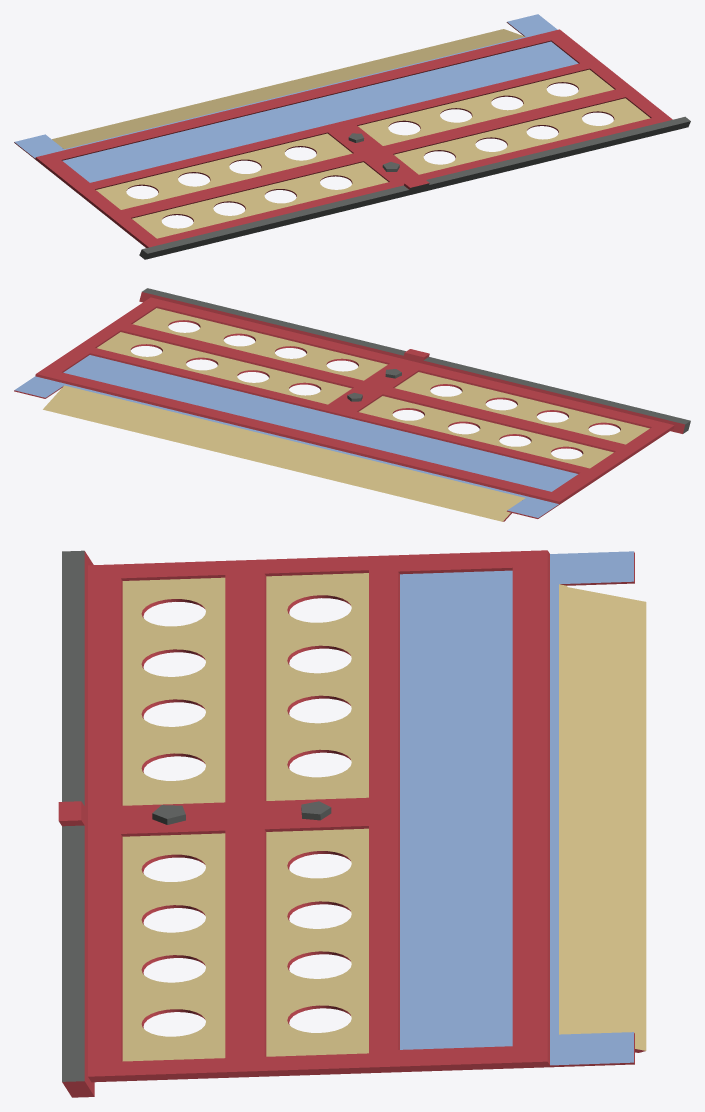
Rendered from DeckHatch.obj.
The picture shows the model from 3 angles, top to bottom: view 1: azimuth 30°, elevation 25°; view 2: azimuth 150°, elevation 25°; view 3: azimuth 270°, elevation 25°; orthographic projection. The views are drawn at different scales.
Visible parts, largest first — view 1: Mesh1 Model; view 2: Mesh1 Model; view 3: Mesh1 Model.
Boxes of the visible parts, x1,y1,x2,y2 form: Mesh1 Model: (14,14,690,259); Mesh1 Model: (14,288,690,521); Mesh1 Model: (58,550,646,1097).
Bounding box in the file's own units: 16.85 × 0.3922 × 7.89.
